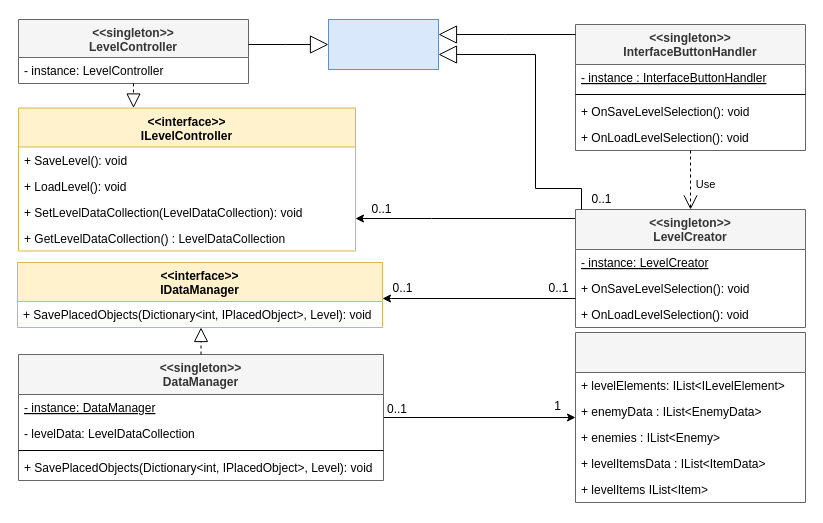
This 823x523 diagram has some shape labels left out. The shapes that lost their labels are listed below. From the top down, each one's box as (x1, y1, x2, y2) in pixels, then its label:
(328, 18, 438, 70): MonoBehaviour
(574, 332, 806, 502): LevelDataCollection
